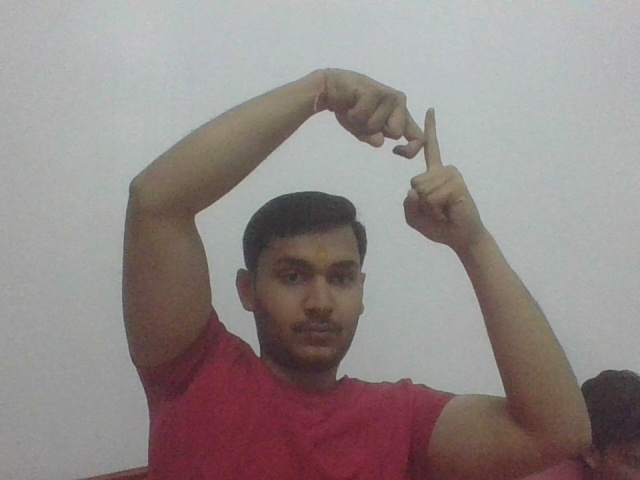K: (387, 90, 457, 188)
